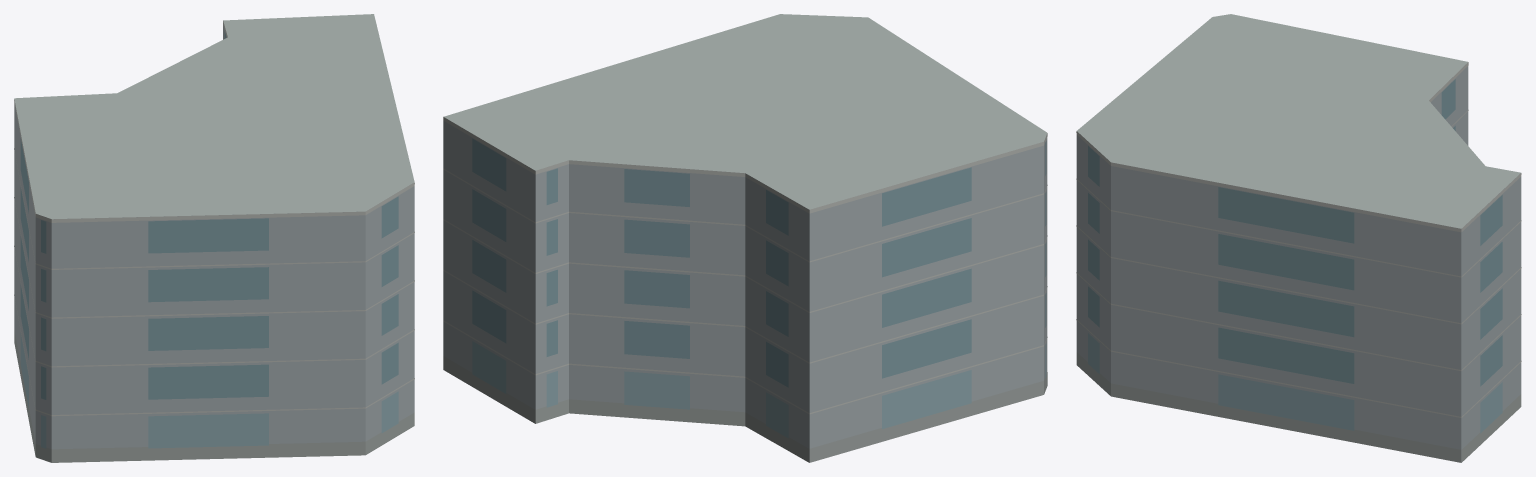
File: survey-upis-33008685.glb
The picture shows the model from 3 angles, left to right: view 1: azimuth 30°, elevation 25°; view 2: azimuth 150°, elevation 25°; view 3: azimuth 270°, elevation 25°; orthographic projection. The views are drawn at different scales.
Parts seen in each view (by area): view 1: survey-upis-33008685.tmp; view 2: survey-upis-33008685.tmp; view 3: survey-upis-33008685.tmp.
Boxes of the visible parts, bbox=[...] form: survey-upis-33008685.tmp: bbox=[14, 14, 414, 462]; survey-upis-33008685.tmp: bbox=[443, 14, 1047, 462]; survey-upis-33008685.tmp: bbox=[1076, 14, 1521, 462].
Bounding box in the file's own units: 31.21 × 15.85 × 27.31.
